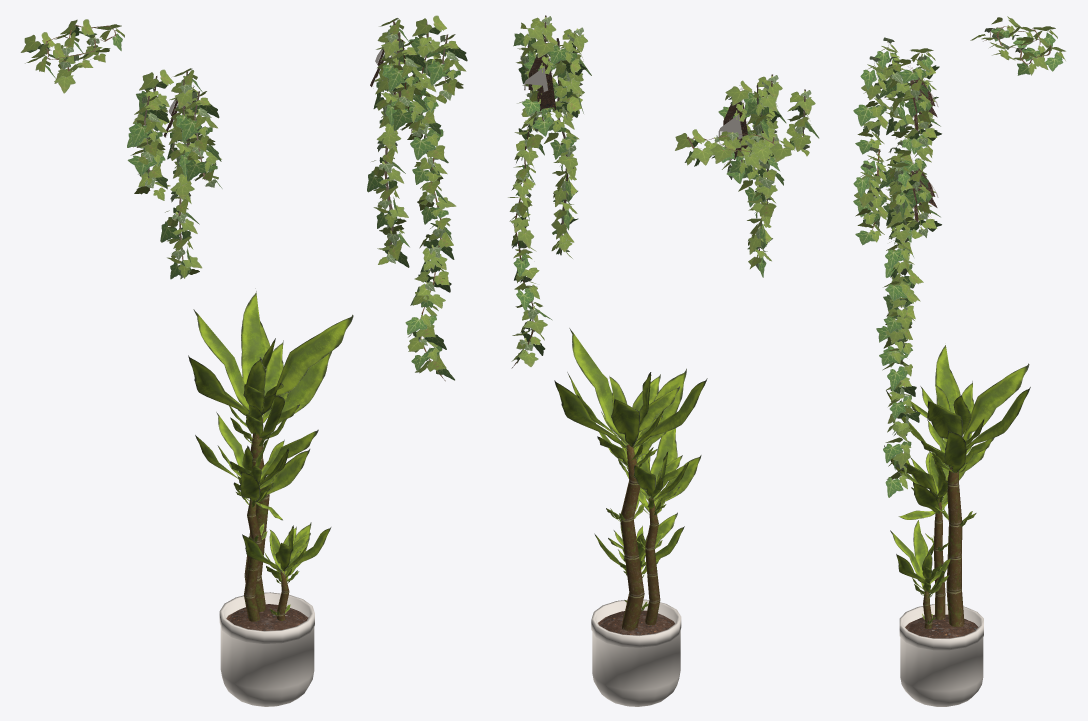
Rendered from Plants.fbx.
3 views of the same model, side by side, from view 1: azimuth 30°, elevation 25°; view 2: azimuth 150°, elevation 25°; view 3: azimuth 270°, elevation 25° (orthographic). The views are drawn at different scales.
Visible parts, largest first — view 1: Plant, Ivy_long, Ivy_Middle, Flower_Pot, Ivy_Short; view 2: Plant, Ivy_long, Flower_Pot, Ivy_Middle, Ivy_Short; view 3: Plant, Ivy_long, Flower_Pot, Ivy_Middle, Ivy_Short.
Boxes of the visible parts, <box> form: Plant: <box>188,288,353,621</box>; Ivy_long: <box>367,15,467,381</box>; Ivy_Middle: <box>127,68,222,279</box>; Flower_Pot: <box>219,592,314,706</box>; Ivy_Short: <box>20,19,124,93</box>; Plant: <box>554,328,707,630</box>; Ivy_long: <box>508,15,591,368</box>; Flower_Pot: <box>591,599,681,706</box>; Ivy_Middle: <box>718,74,819,277</box>; Ivy_Short: <box>675,129,796,174</box>; Plant: <box>884,345,1030,628</box>; Ivy_long: <box>853,147,941,497</box>; Flower_Pot: <box>899,604,983,706</box>; Ivy_Middle: <box>853,37,941,230</box>; Ivy_Short: <box>970,16,1065,75</box>.
Bounding box in the file's own units: 116 × 196 × 66.8.
